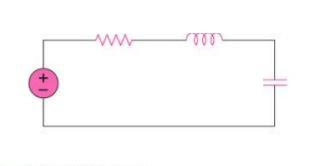resistor: (81, 26, 141, 55)
